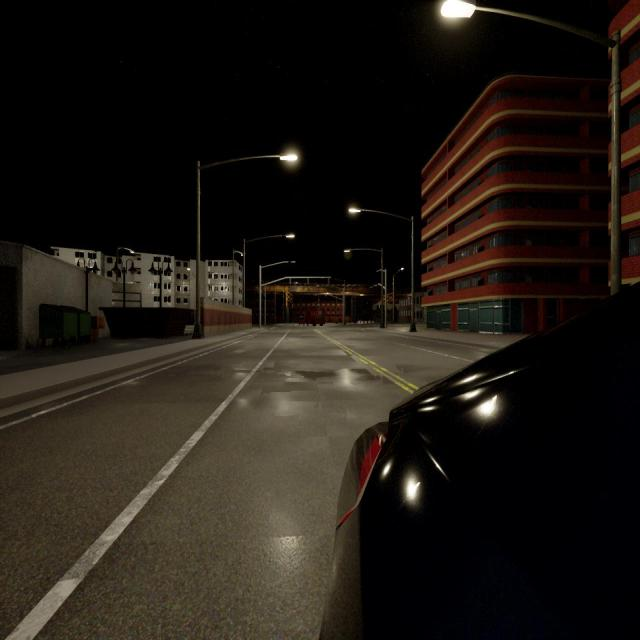Vehicle: (328, 298, 640, 638), (308, 309, 322, 326), (298, 316, 304, 326)
traffic_light: (307, 278, 309, 284), (328, 278, 329, 285), (290, 278, 291, 284), (325, 294, 327, 296), (315, 294, 316, 296)
